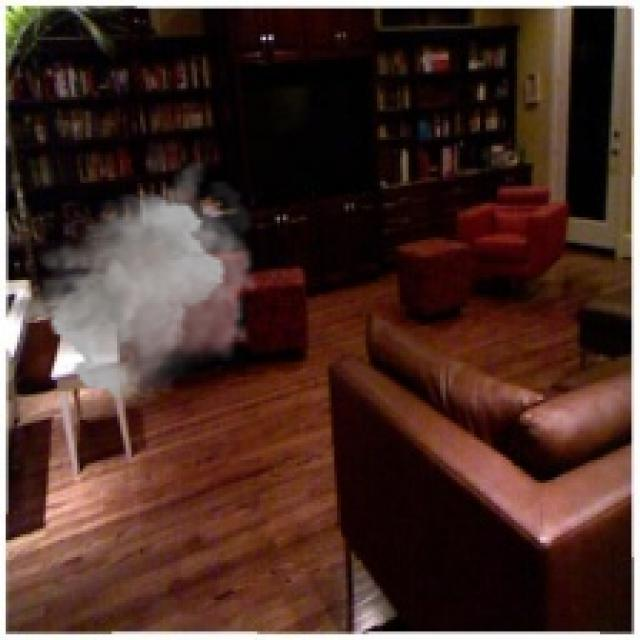Smoke: (0, 160, 260, 403)
